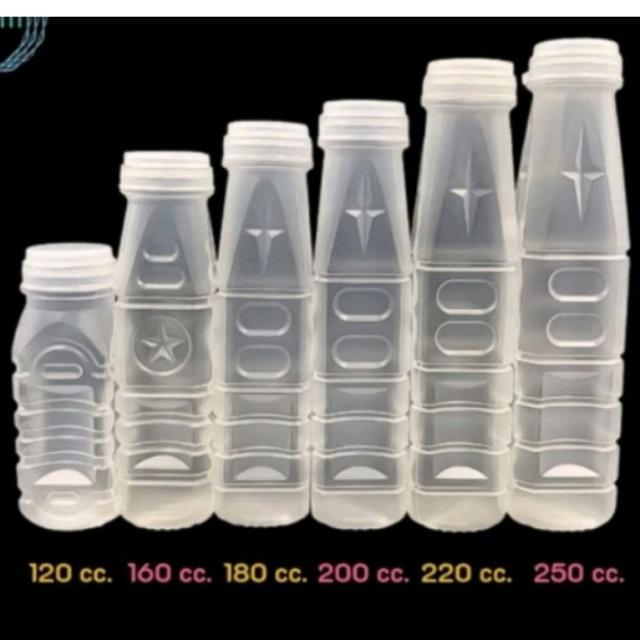Single-Use-Plastic: (510, 39, 629, 531), (409, 59, 519, 531), (311, 100, 411, 529), (215, 121, 312, 526), (114, 151, 214, 529), (12, 244, 118, 530)
